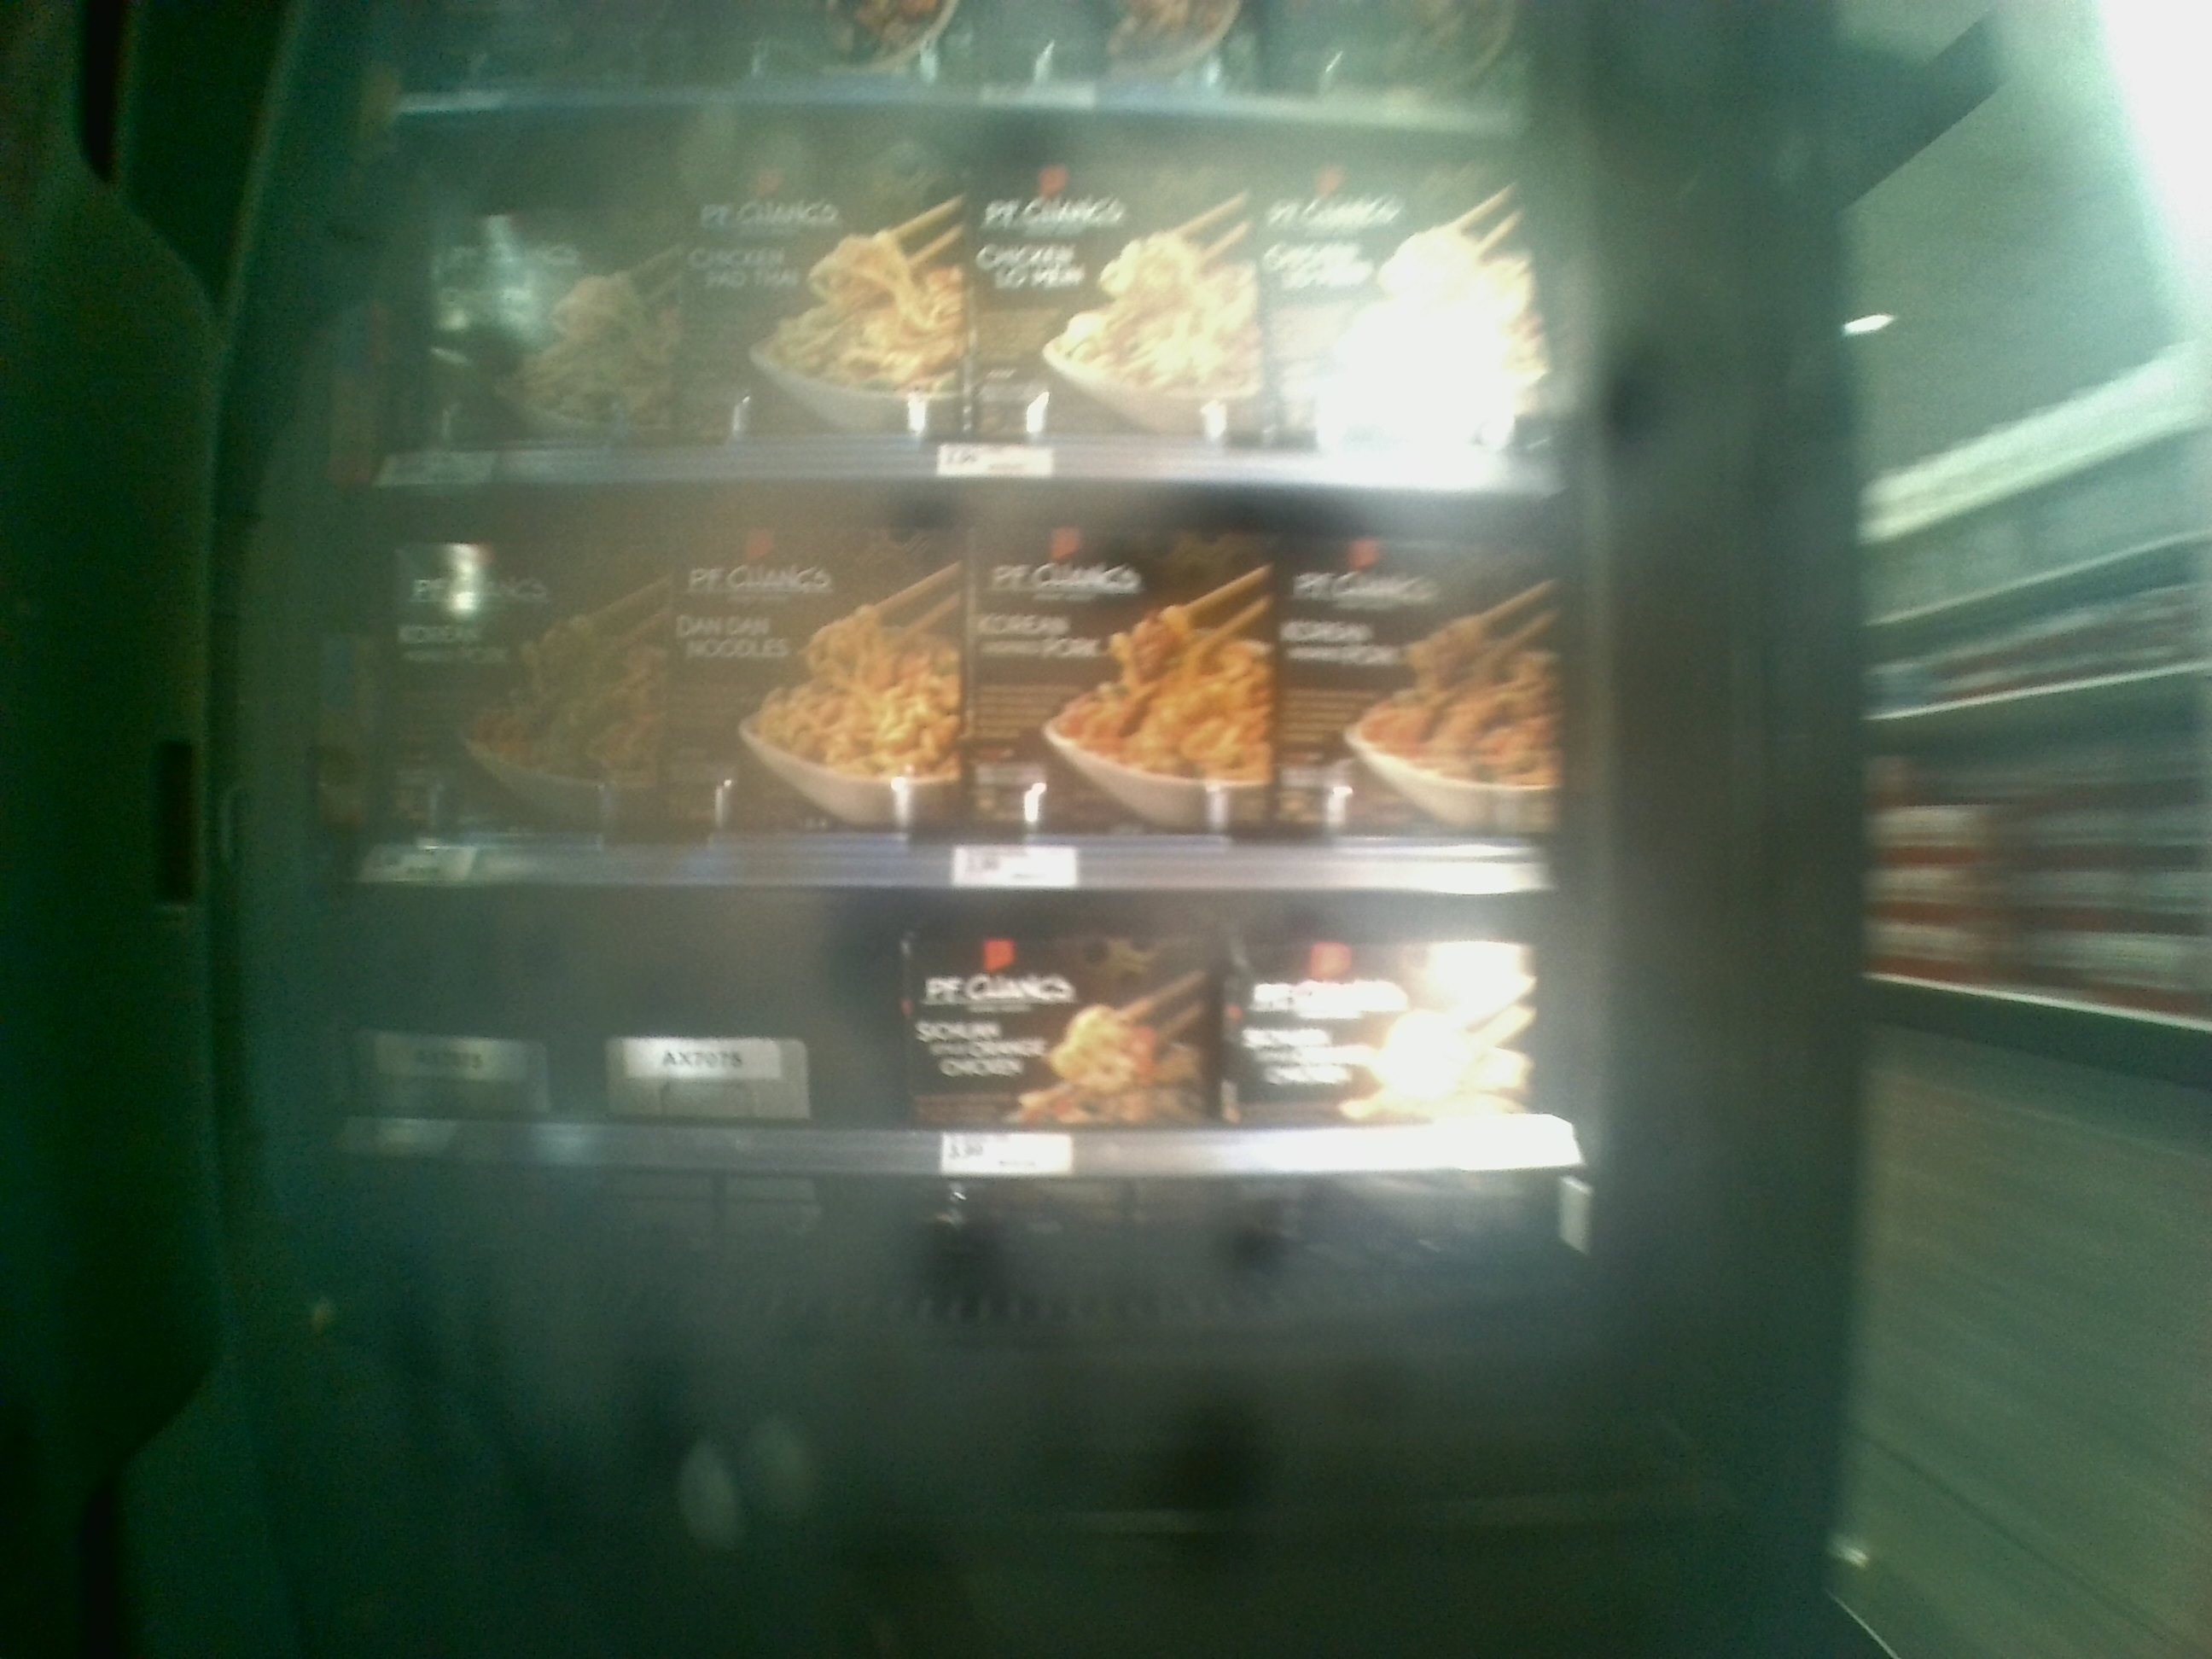shelf: (348, 873, 1611, 1344), (348, 462, 1602, 882), (366, 94, 1562, 495)
